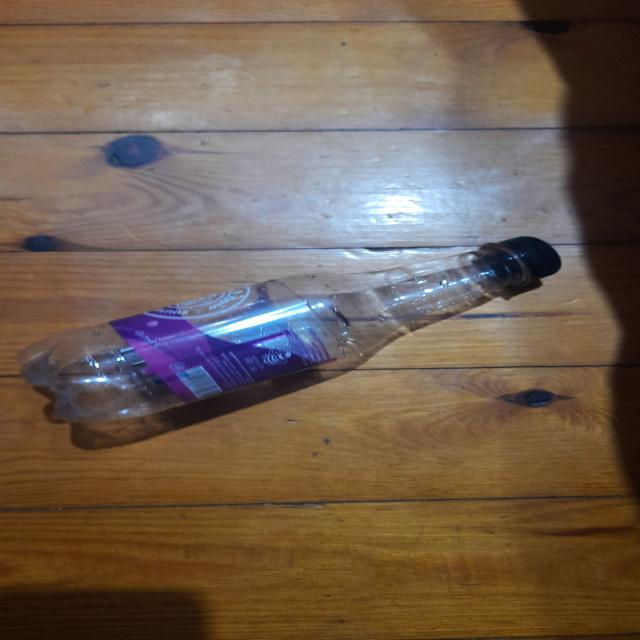plastic: (15, 203, 564, 452)
